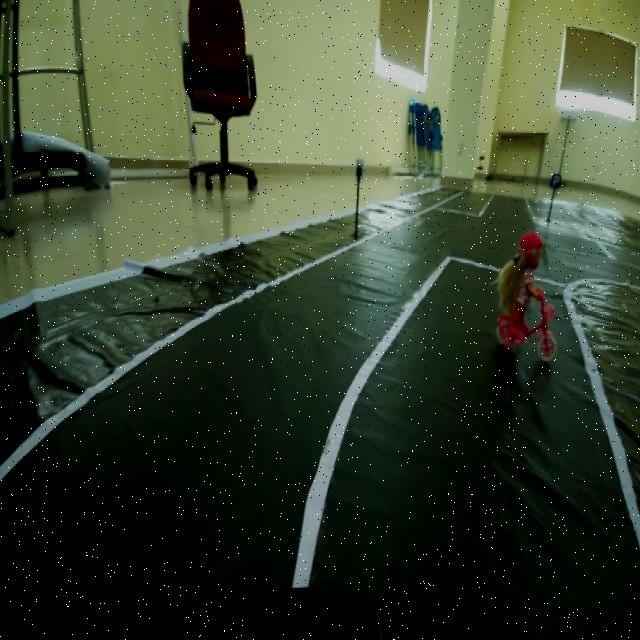pedestrian: (493, 212, 568, 365)
